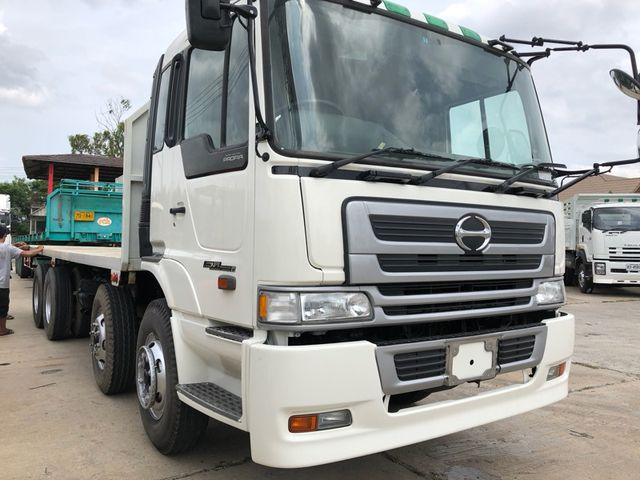truck: (118, 3, 578, 472)
